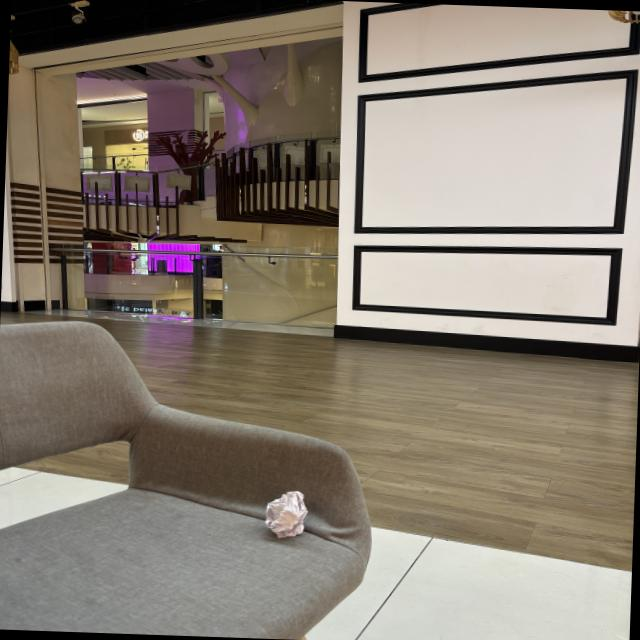crumpled_paper: (258, 484, 312, 544)
